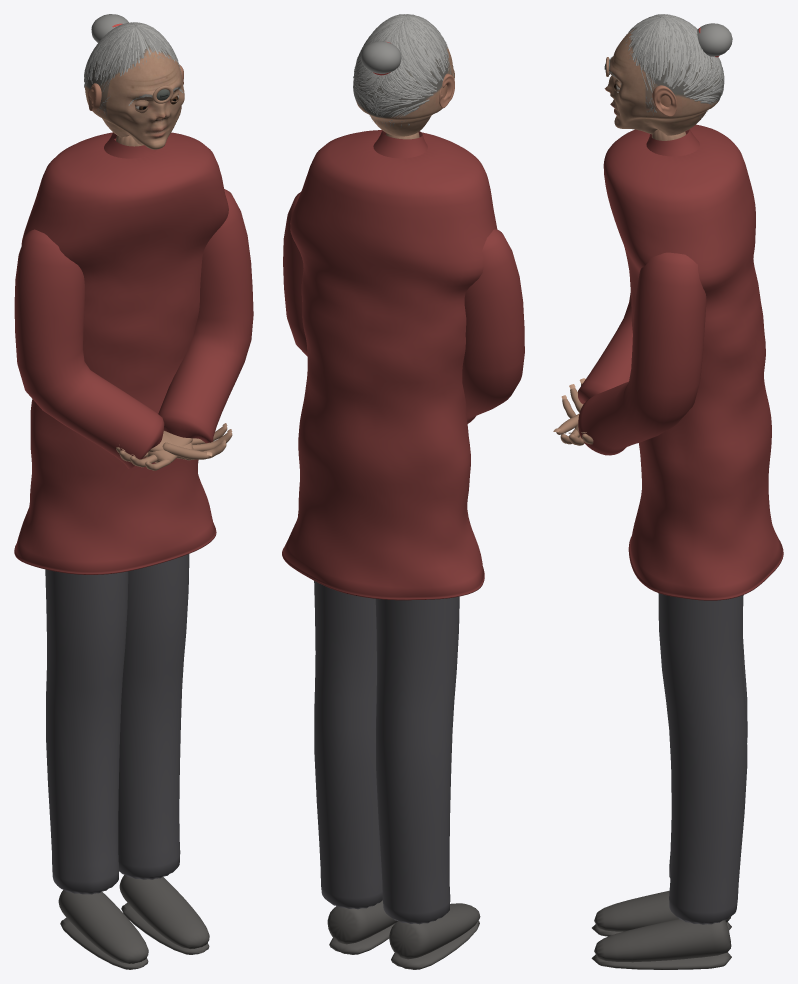
File: matron.glb
3 views of the same model, side by side, from view 1: azimuth 30°, elevation 25°; view 2: azimuth 150°, elevation 25°; view 3: azimuth 270°, elevation 25° (orthographic).
Parts seen in each view (by area): view 1: Torso, LegL, LegR, SleeveL, SleeveR, Head, FootL, FootR, HairCards, HandL, HandR, Collar (+1 smaller); view 2: Torso, LegL, LegR, SleeveL, HairCards, FootL, Head, FootR, SleeveR, HairBun, Collar; view 3: Torso, LegR, SleeveR, FootR, Head, HairCards, SleeveL, FootL, HairBun, Collar, HandL, EarR.
Boxes of the visible parts, x1,y1,x2,y2 form: Torso: (14, 132, 228, 574); LegL: (45, 569, 128, 894); LegR: (118, 554, 189, 879); SleeveL: (14, 229, 164, 468); SleeveR: (158, 189, 253, 443); Head: (85, 39, 184, 149); FootL: (58, 890, 148, 969); FootR: (119, 875, 209, 954); HairCards: (84, 22, 181, 115); HandL: (149, 426, 232, 460); HandR: (116, 431, 192, 470); Collar: (104, 132, 156, 158); Torso: (282, 130, 497, 600); LegL: (375, 596, 459, 924); LegR: (314, 581, 382, 909); SleeveL: (462, 229, 524, 423); HairCards: (353, 14, 453, 127); FootL: (389, 903, 480, 969); Head: (354, 34, 454, 136); FootR: (327, 900, 397, 954); SleeveR: (283, 192, 307, 356); HairBun: (361, 41, 401, 73); Collar: (373, 130, 427, 158); Torso: (603, 124, 783, 600); LegR: (658, 593, 747, 924); SleeveR: (578, 252, 706, 455); FootR: (591, 919, 731, 969); Head: (604, 27, 722, 135); HairCards: (625, 14, 724, 119); SleeveL: (578, 292, 632, 404); FootL: (592, 890, 731, 936); HairBun: (697, 23, 732, 56); Collar: (646, 129, 699, 156); HandL: (556, 413, 593, 445); EarR: (652, 85, 676, 116).
Size of the model in its own units: 0.412 by 1.57 by 0.3522.
16 materials, 2 textured.
